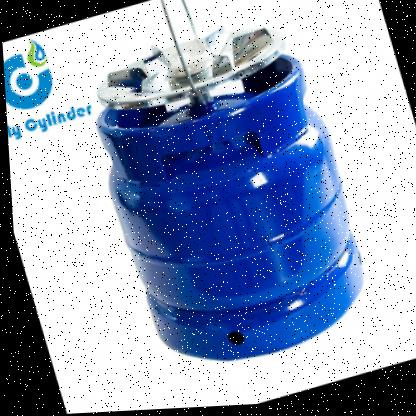gas-tank: (21, 8, 415, 415)
